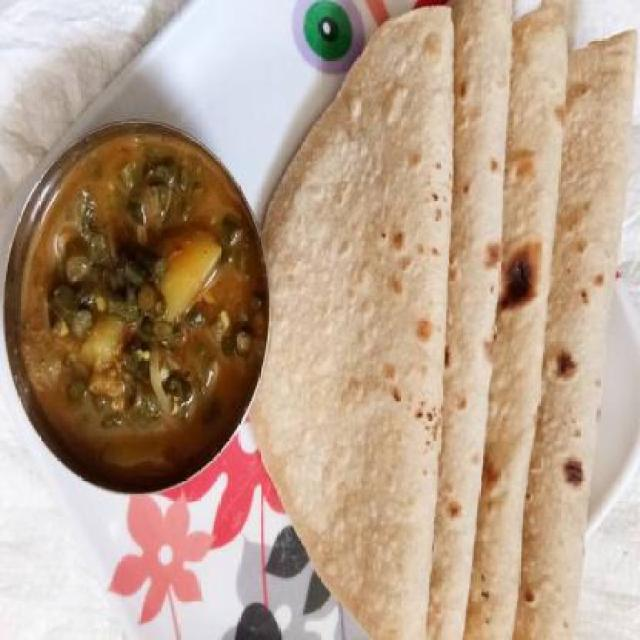chapati: (248, 9, 457, 638), (533, 0, 634, 638), (430, 0, 511, 638), (488, 0, 568, 638)
